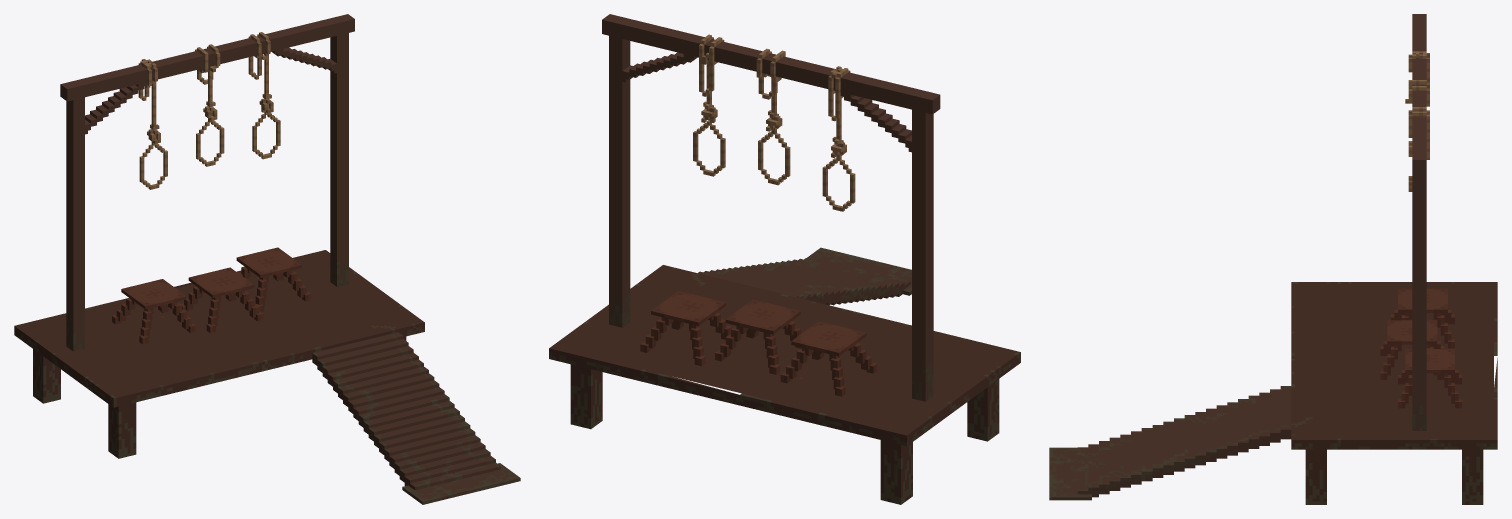
File: Potence.fbx
3 views of the same model, side by side, from view 1: azimuth 30°, elevation 25°; view 2: azimuth 150°, elevation 25°; view 3: azimuth 270°, elevation 25° (orthographic). The views are drawn at different scales.
Visible parts, largest first — view 1: Potence:Mesh; view 2: Potence:Mesh; view 3: Potence:Mesh.
Boxes of the visible parts, x1,y1,x2,y2 form: Potence:Mesh: (14, 14, 520, 504); Potence:Mesh: (549, 14, 1020, 504); Potence:Mesh: (1049, 14, 1497, 504).
Bounding box in the file's own units: 105 × 108 × 126.
